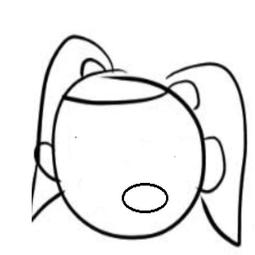ear: (194, 135, 231, 198), (33, 137, 65, 184)
open_mouth: (114, 180, 173, 216)
